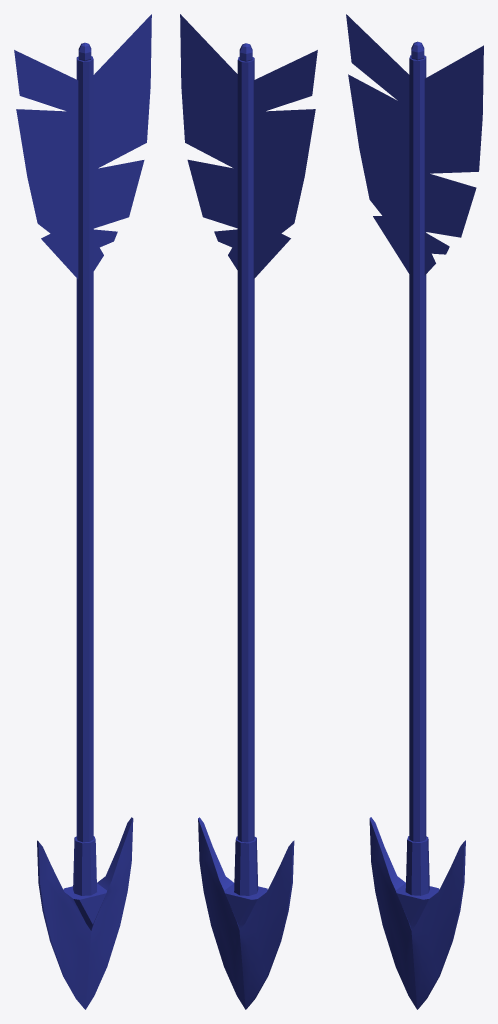
File: arrow.fbx
The picture shows the model from 3 angles, left to right: view 1: azimuth 30°, elevation 25°; view 2: azimuth 150°, elevation 25°; view 3: azimuth 330°, elevation 25°; orthographic projection.
Visible parts, largest first — view 1: pPlane4; view 2: pPlane4; view 3: pPlane4.
Boxes of the visible parts, x1=… form: pPlane4: x1=14, y1=14, x2=151, y2=1009; pPlane4: x1=180, y1=14, x2=317, y2=1009; pPlane4: x1=346, y1=14, x2=483, y2=1009.
Bounding box in the file's own units: 0.4304 × 2.93 × 0.0843.
